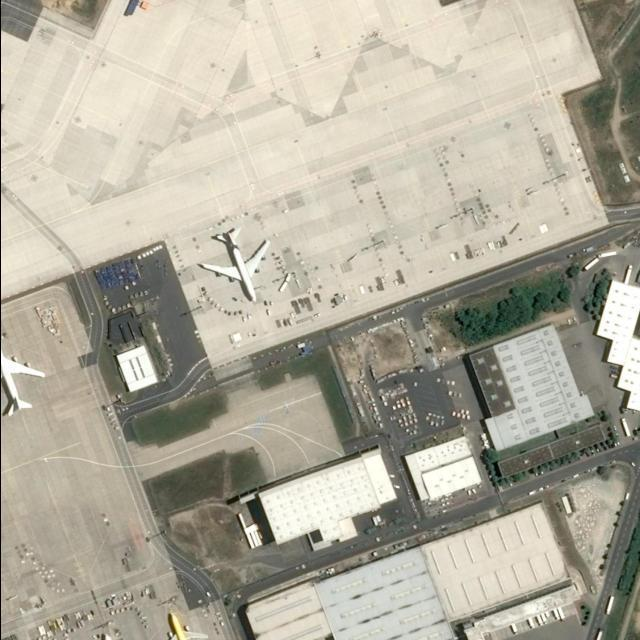Aircraft: (198, 221, 272, 301), (0, 336, 44, 422), (160, 606, 208, 640)
